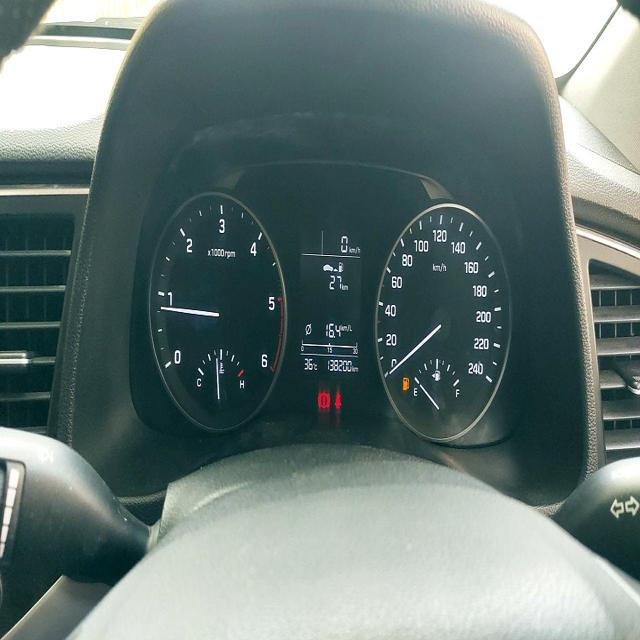odometer: (325, 355, 353, 374)
